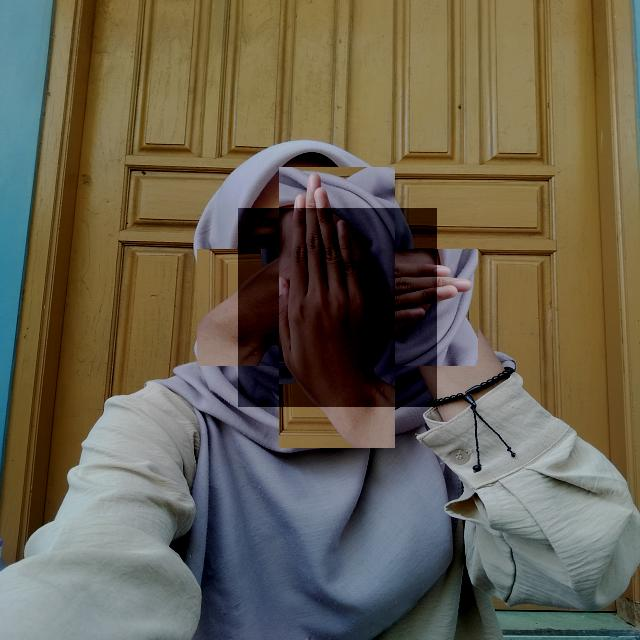buruk: (238, 208, 437, 407)
